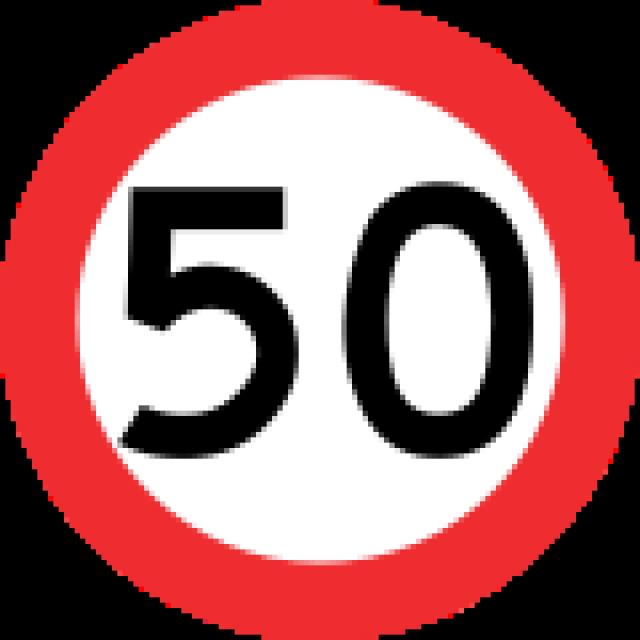Speed Limit -50-: (111, 177, 537, 467)
